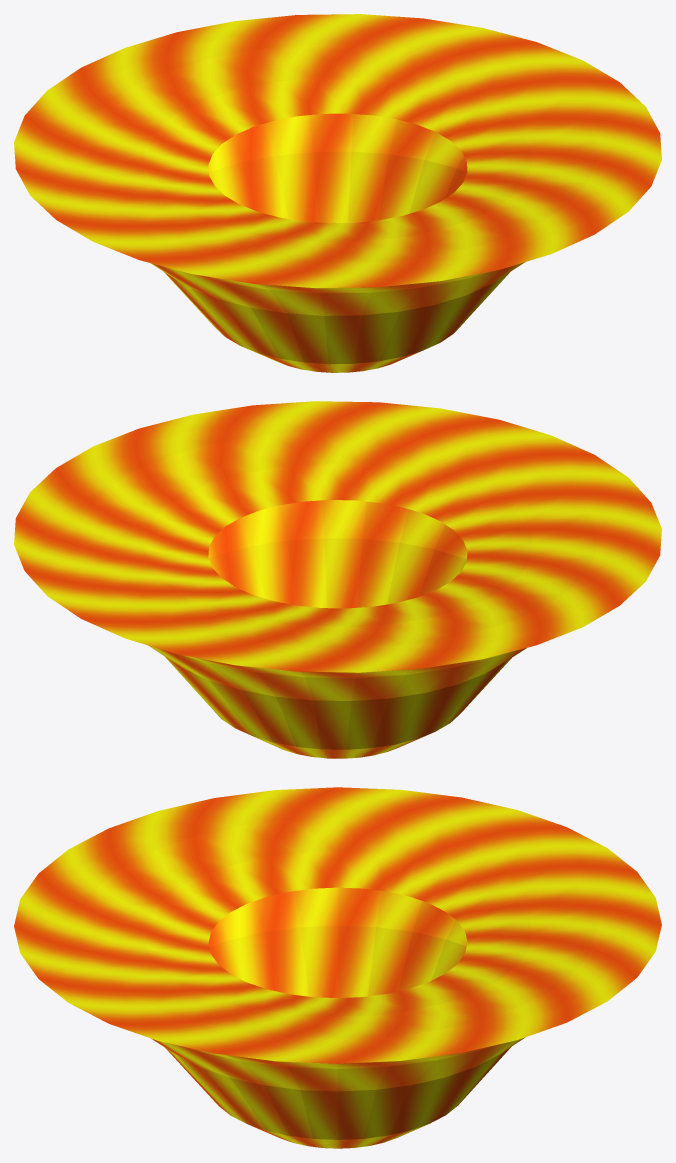
File: portal.obj
3 renders of one model, top to bottom at view 1: azimuth 30°, elevation 25°; view 2: azimuth 150°, elevation 25°; view 3: azimuth 270°, elevation 25°, orthographic.
Parts seen in each view (by area): view 1: portal:Spiral1, portal:Back; view 2: portal:Spiral1, portal:Back; view 3: portal:Spiral1, portal:Back.
Boxes of the visible parts, box(x1,y1,x2,y2) form: portal:Spiral1: box(14, 14, 661, 287); portal:Back: box(150, 113, 525, 372); portal:Spiral1: box(14, 401, 661, 672); portal:Back: box(148, 500, 526, 758); portal:Spiral1: box(14, 787, 661, 1063); portal:Back: box(151, 887, 525, 1148).
Bounding box in the file's own units: 1.97 × 0.6881 × 1.95.
1 material, 1 textured.
